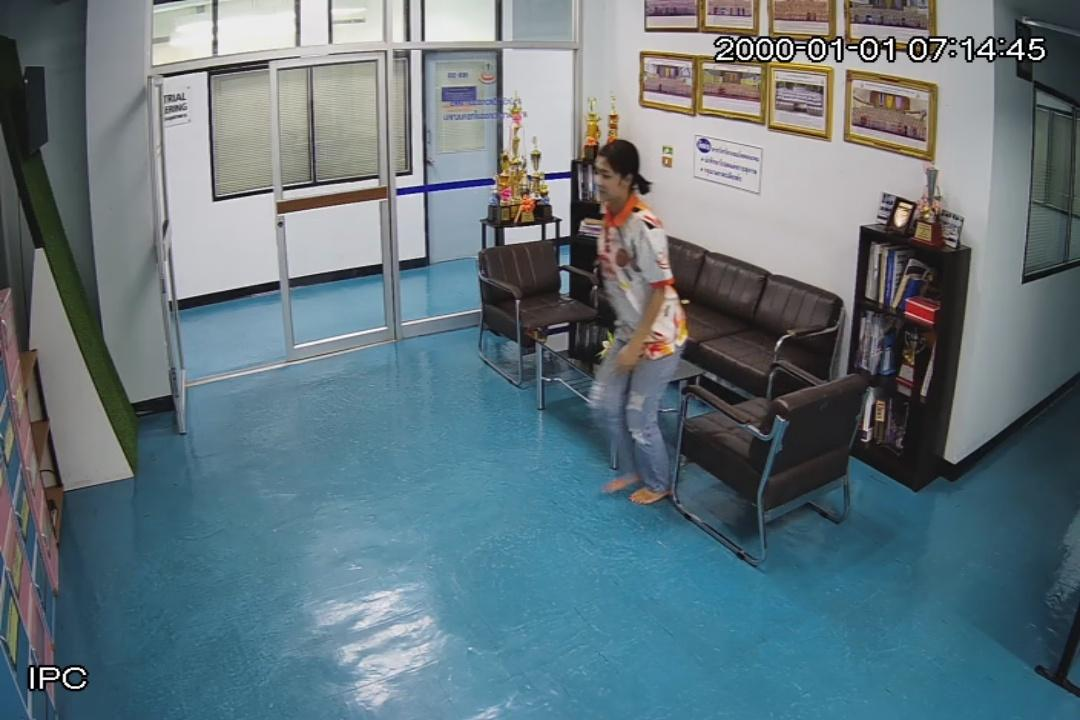normal: (576, 134, 691, 514)
